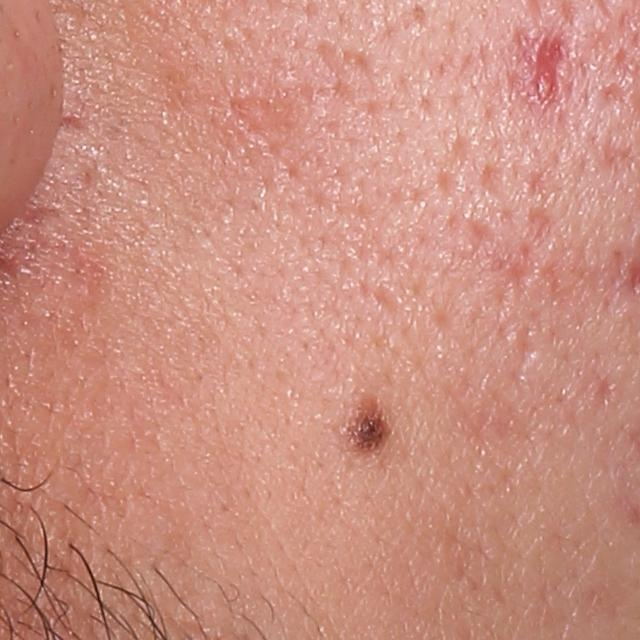atrophic_scar: (227, 87, 301, 153), (319, 36, 372, 105), (534, 34, 565, 104), (475, 160, 512, 217), (528, 203, 561, 261)
nevus: (344, 389, 395, 463)
